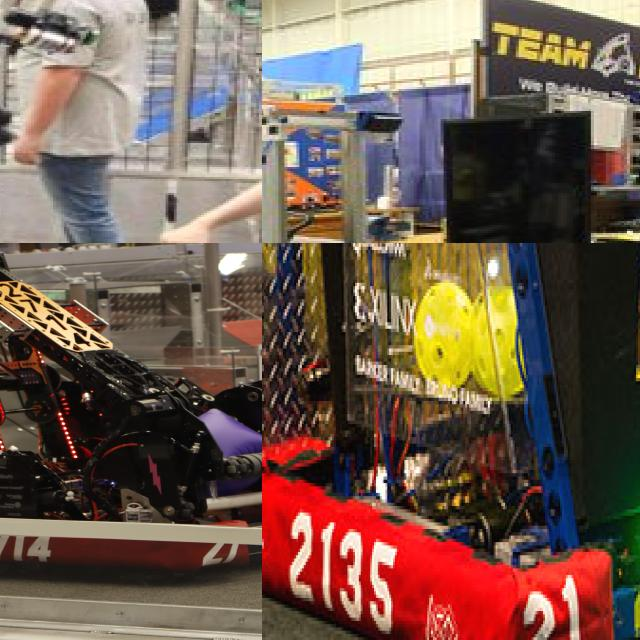FRC-Robots: (262, 243, 640, 640), (0, 243, 262, 592), (262, 62, 619, 243), (0, 0, 256, 243)
